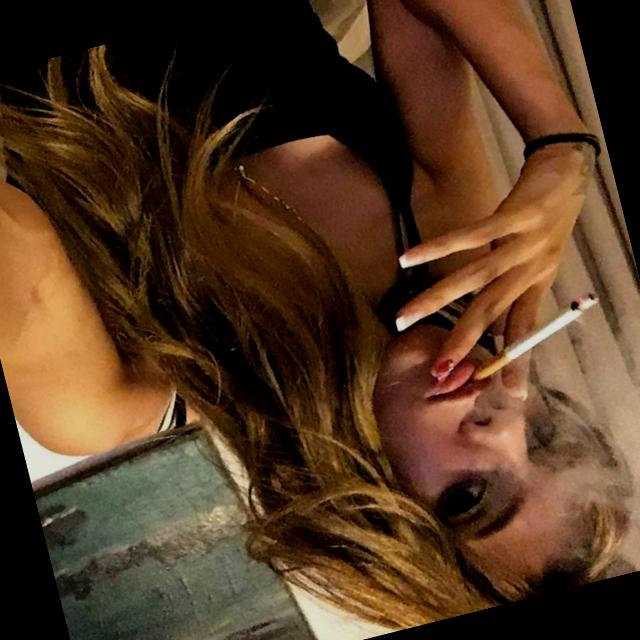smoke: (450, 284, 620, 386)
